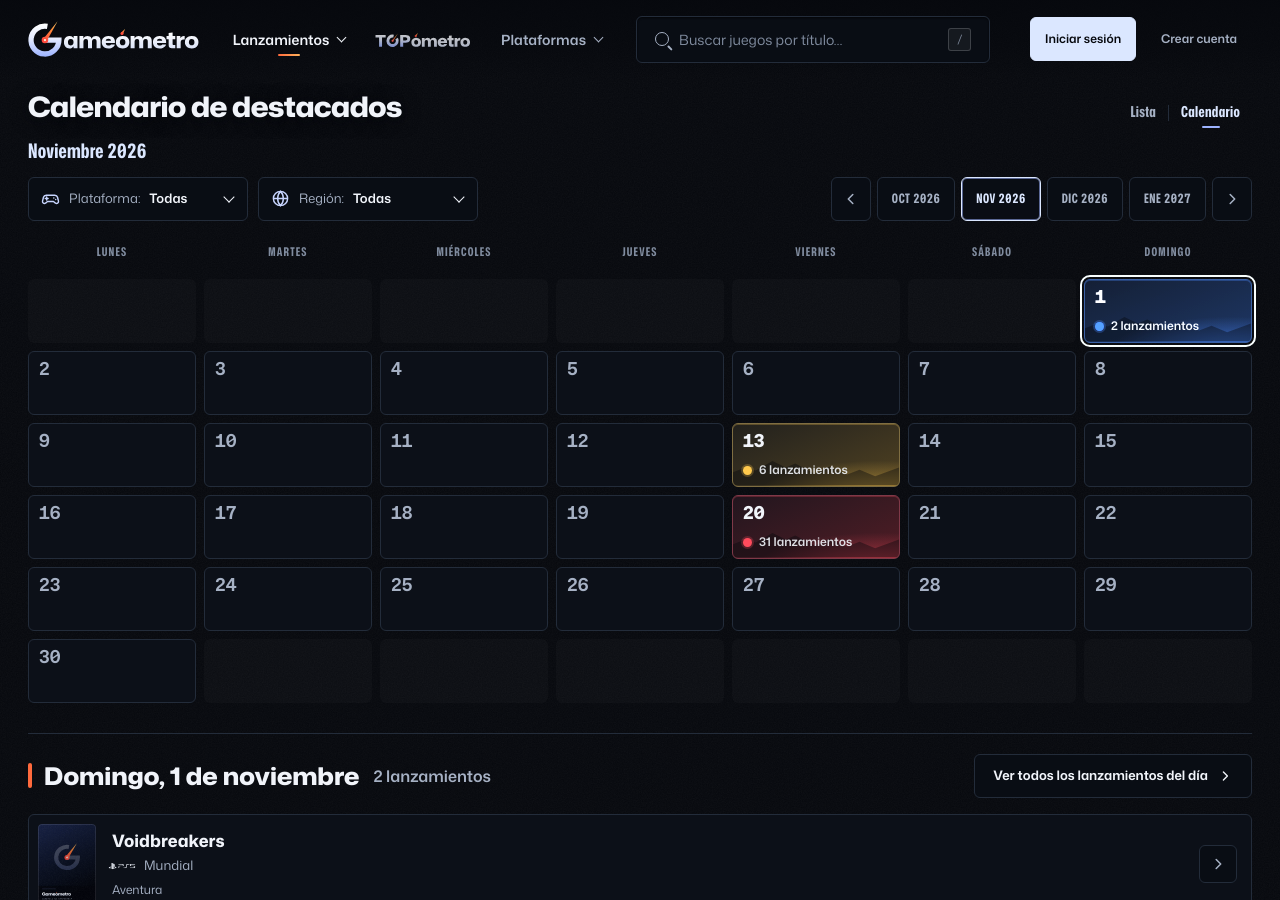
Test: release calendar page › chooses a day by click, keeps it in the URL and lists its three leading games
This screenshot has width=1280, height=900.
Click the button with aria-label "viernes, 20 de noviembre". click: (816, 526)
box: top-left (732, 494), bottom-right (900, 558)
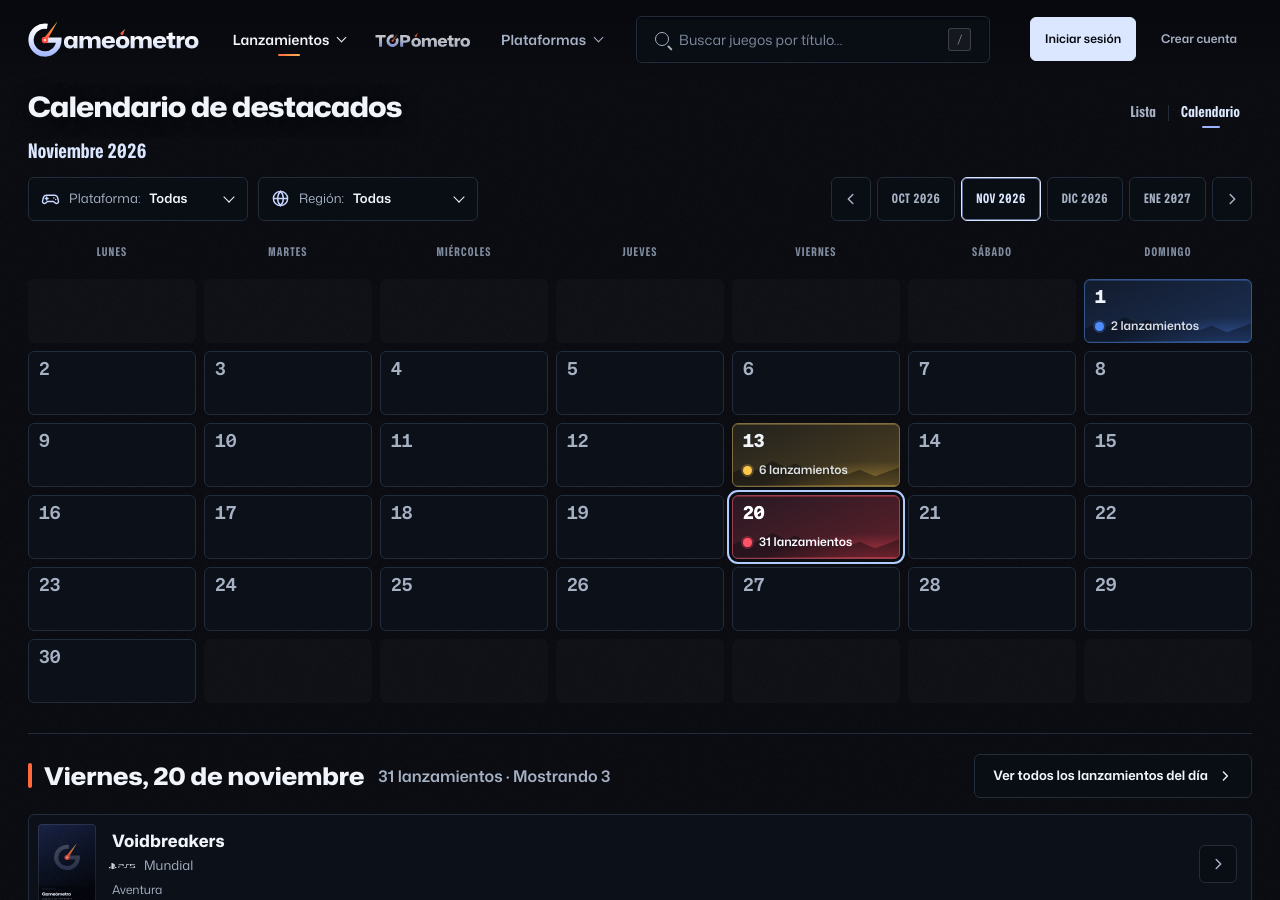
Expected: the heading "Viernes, 20 de noviembre" is shown, top-left (28, 762), bottom-right (364, 790)
Expected: the text "31 lanzamientos · Mostrando 3" is shown, top-left (378, 764), bottom-right (610, 788)
